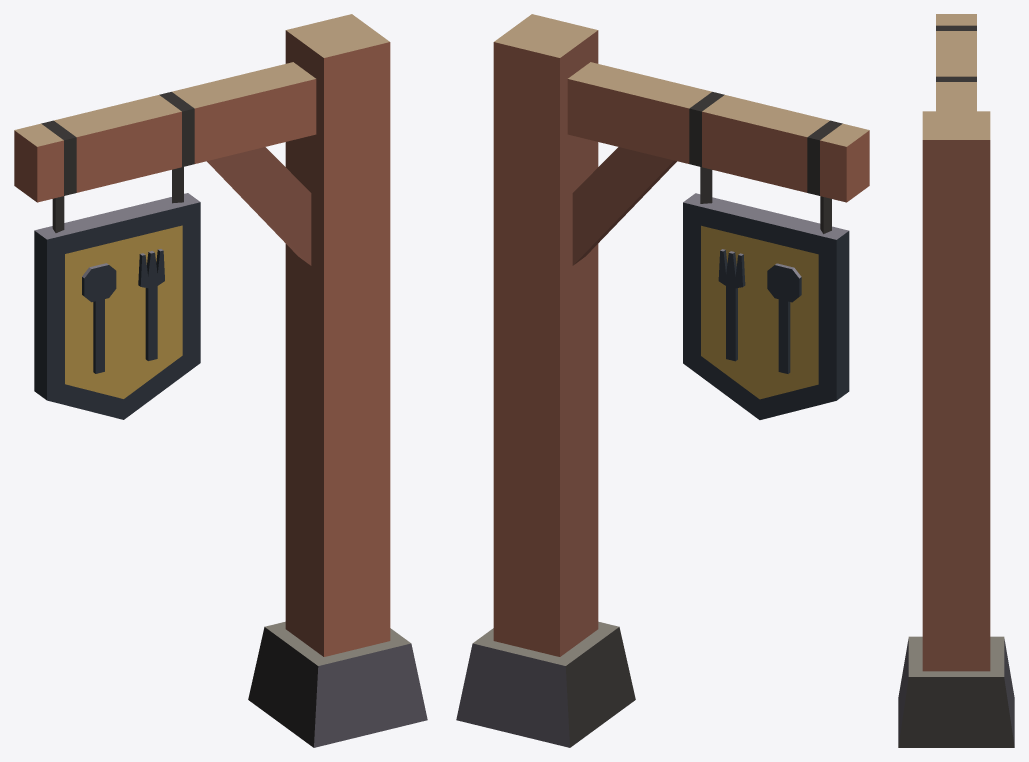
The model's file is TB_Prop_Sign_Inn.FBX.
The picture shows the model from 3 angles, left to right: view 1: azimuth 30°, elevation 25°; view 2: azimuth 150°, elevation 25°; view 3: azimuth 270°, elevation 25°; orthographic projection. The views are drawn at different scales.
Visible parts, largest first — view 1: TB_Prop_Sign_Inn; view 2: TB_Prop_Sign_Inn; view 3: TB_Prop_Sign_Inn.
Boxes of the visible parts, x1,y1,x2,y2 form: TB_Prop_Sign_Inn: (14,14,427,747); TB_Prop_Sign_Inn: (456,14,869,747); TB_Prop_Sign_Inn: (898,14,1014,747).
Size of the model in its own units: 1.68 by 2.93 by 0.5186.
